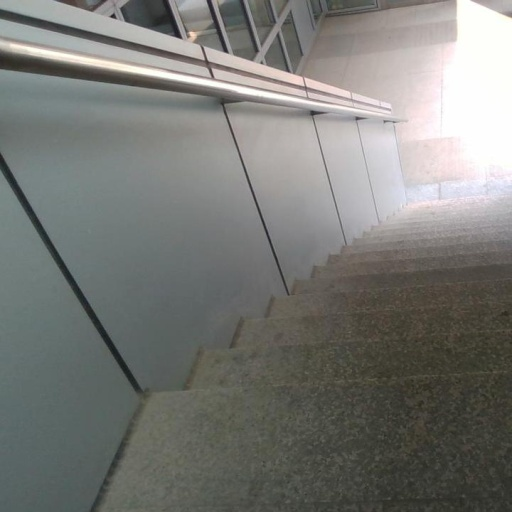Stairs: (94, 196, 512, 512)
